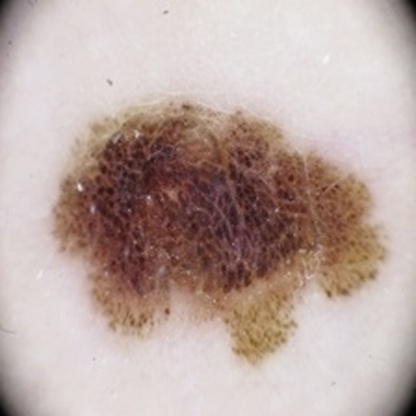benign: (63, 111, 373, 312)
